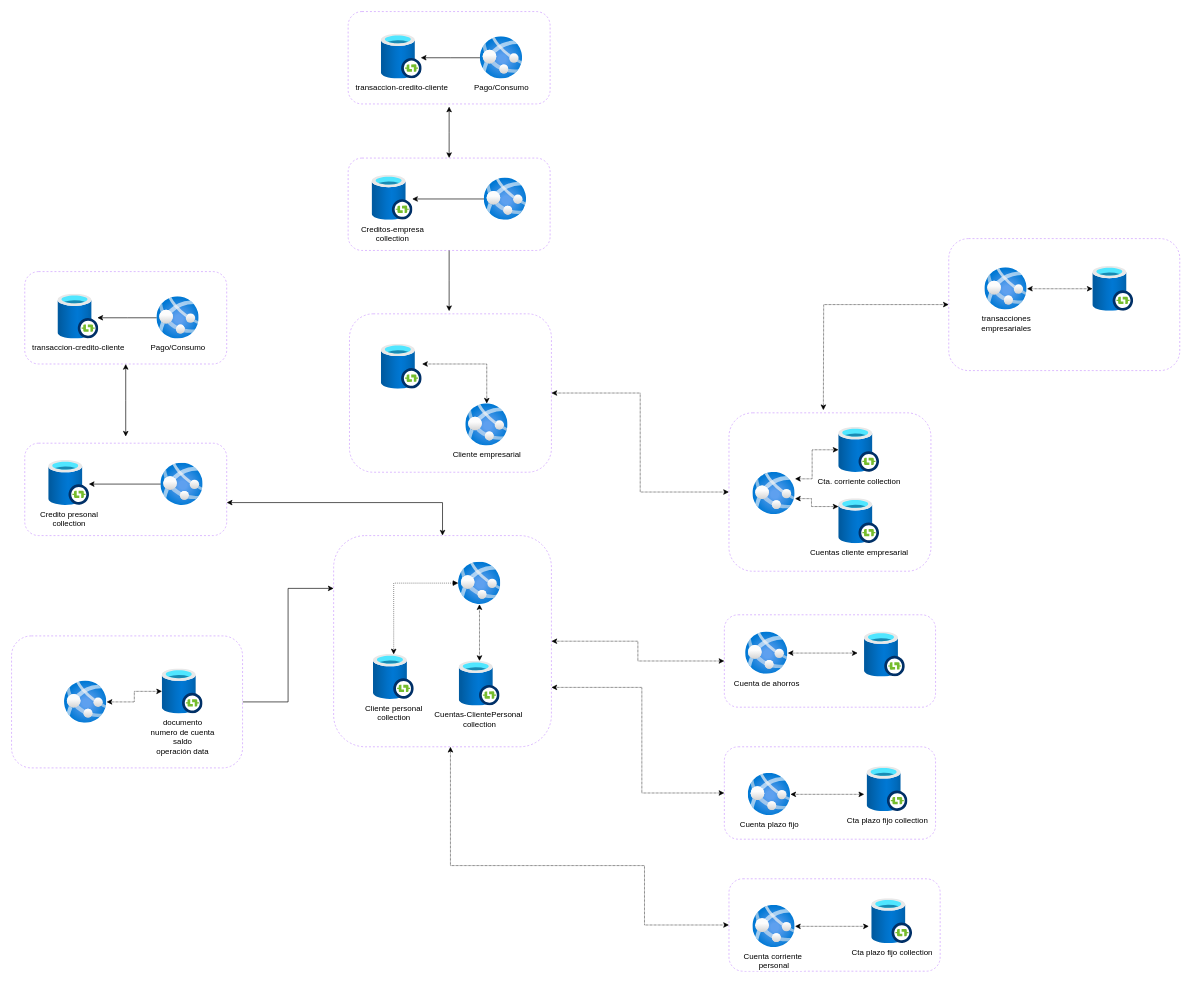
Some shapes in this 1191 by 983 pixel diagram are drawn without their labels. The shapes that lost their labels are listed below. From the top down, each one's centre as x and y in pixels, then its label:
At point (505, 199): "Credito empresarial".
At point (1112, 288): "ruc numero de cuenta saldo operacion data".
At point (401, 366): "Cliente empresarial collection".
At point (181, 484): "Credito personal".
At point (773, 493): "Cuenta corriente empresarial".
At point (479, 583): "Cliente personal".
At point (884, 654): "Cta ahorros collection".
At point (85, 701): "Cuenta personas transacciones".
